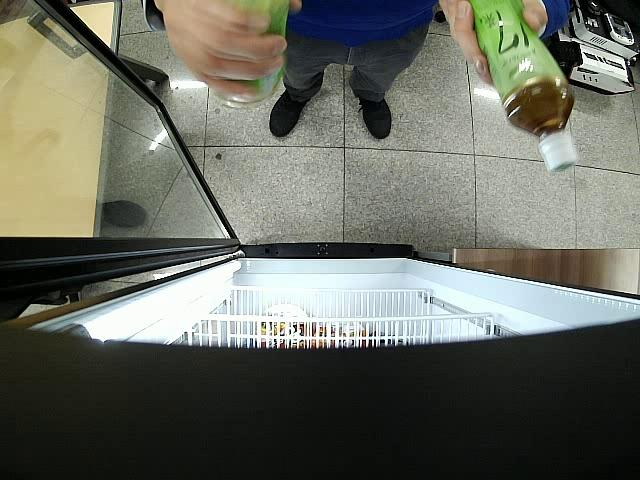00_hand: (156, 0, 303, 96), (441, 1, 549, 86)
19_17cha: (469, 0, 577, 173), (215, 0, 288, 108)
